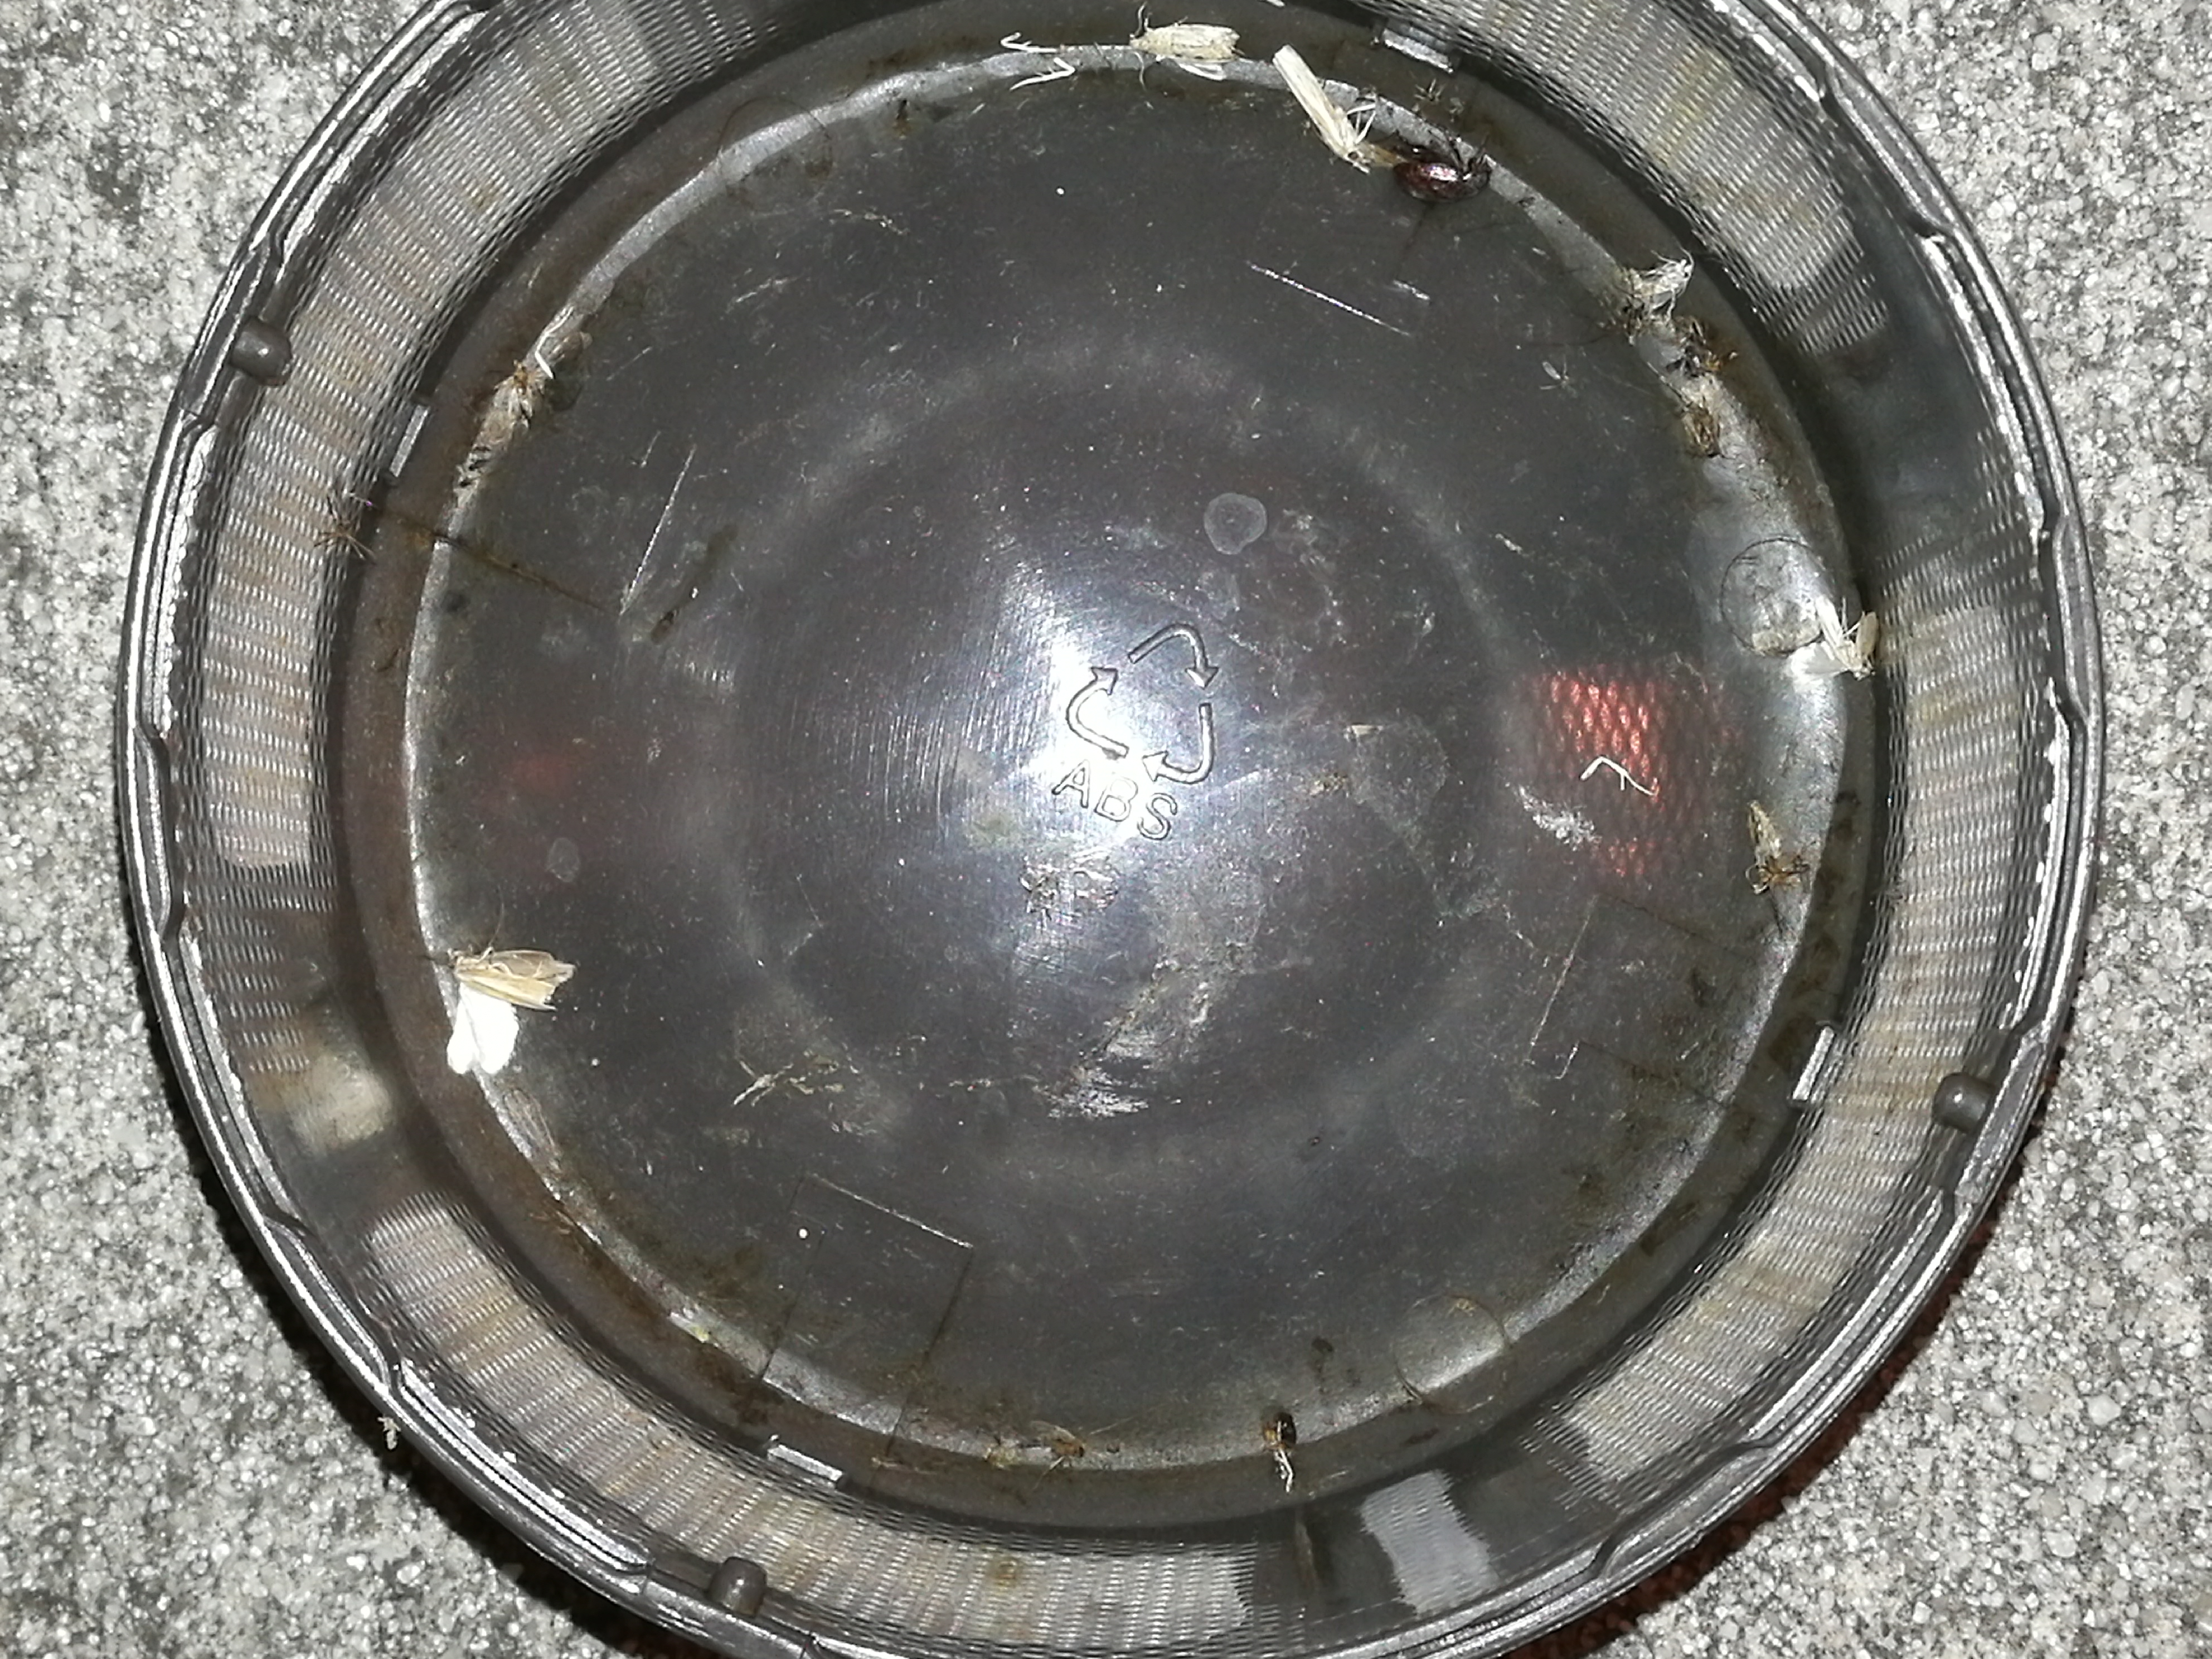beetle: (1400, 159, 1491, 204)
mosquito: (1273, 44, 1360, 162)
moth: (446, 946, 570, 1011), (1785, 599, 1879, 680), (446, 985, 519, 1073), (1134, 24, 1240, 80)
